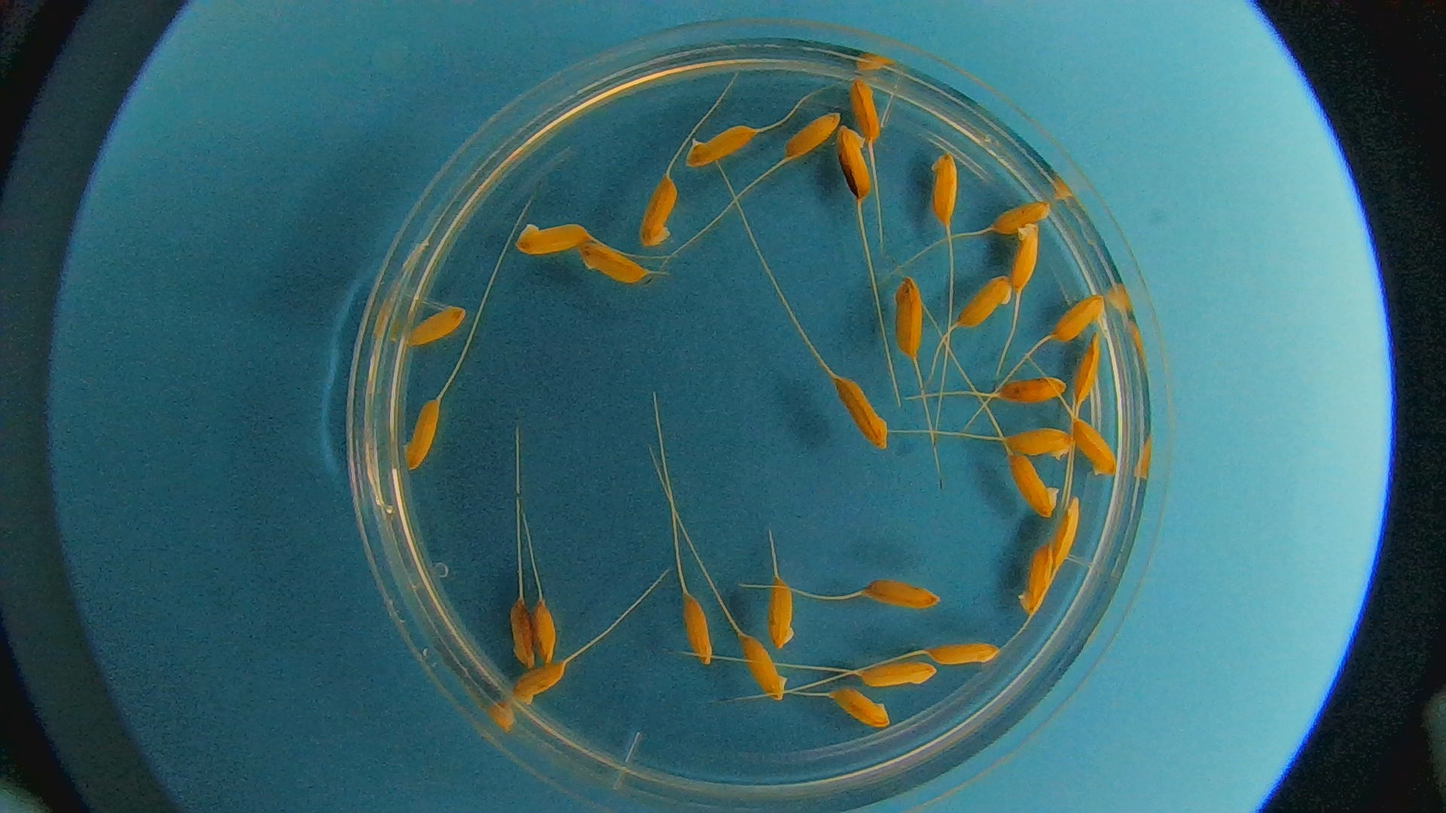no: (832, 373, 888, 456), (734, 626, 792, 705), (1005, 452, 1060, 522), (953, 274, 1012, 335), (1009, 537, 1053, 618), (823, 684, 896, 732), (1069, 413, 1116, 486), (1001, 423, 1077, 467), (574, 239, 645, 285), (761, 579, 805, 653), (509, 218, 590, 257), (834, 117, 872, 200), (780, 110, 843, 160), (890, 276, 928, 358), (402, 394, 441, 473), (1009, 219, 1045, 303), (926, 640, 1001, 678), (845, 72, 883, 146), (508, 661, 564, 711), (639, 176, 678, 247), (928, 151, 963, 230), (865, 577, 944, 612), (684, 126, 753, 166), (404, 306, 466, 349), (1074, 330, 1104, 413), (682, 591, 716, 662), (990, 372, 1065, 404), (1051, 498, 1080, 580), (505, 601, 537, 673), (530, 595, 560, 668), (990, 201, 1056, 234), (857, 661, 938, 687)
yes: (1048, 291, 1107, 350)
